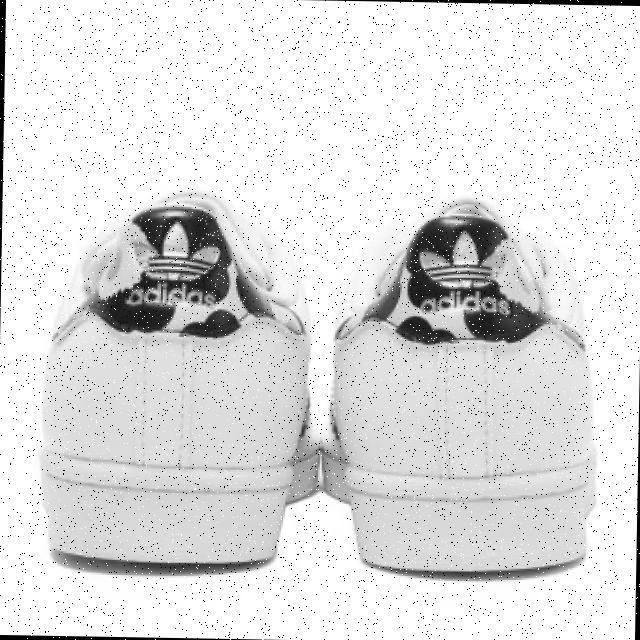Adidas: (125, 213, 226, 286), (415, 228, 518, 292)
